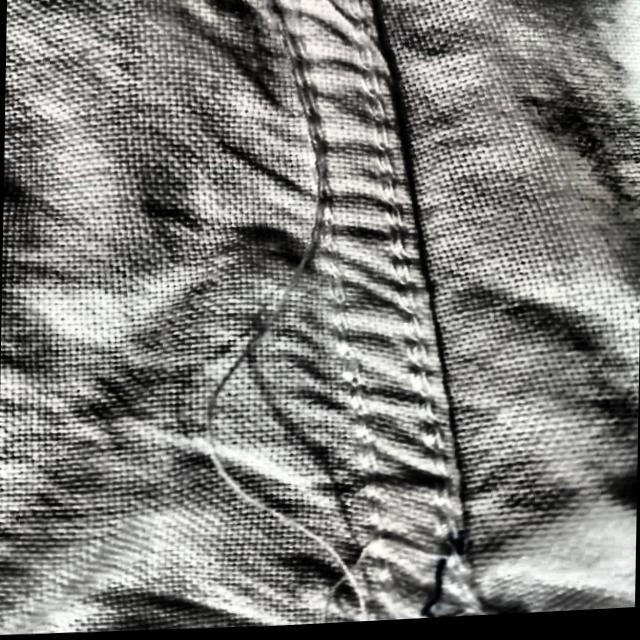Stitch: (204, 0, 403, 632)
